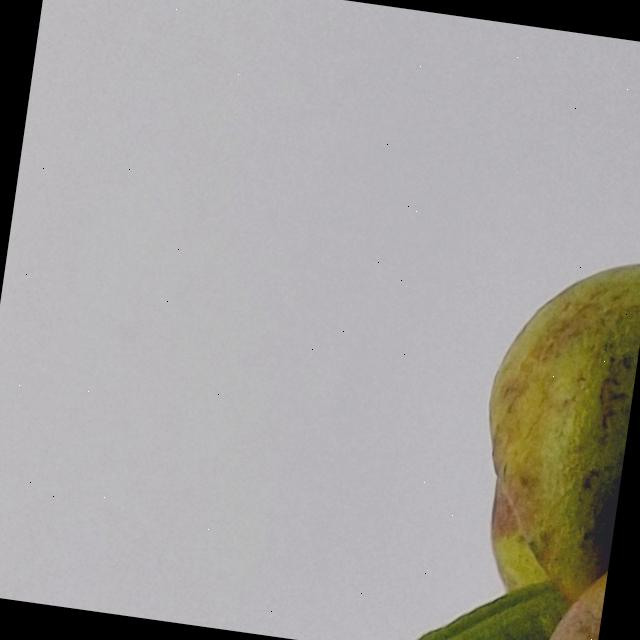mangosteen: (240, 0, 640, 640)
